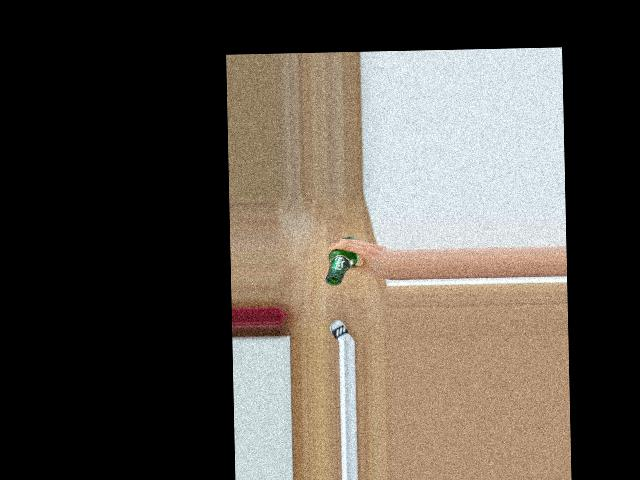beer: (324, 237, 359, 285)
